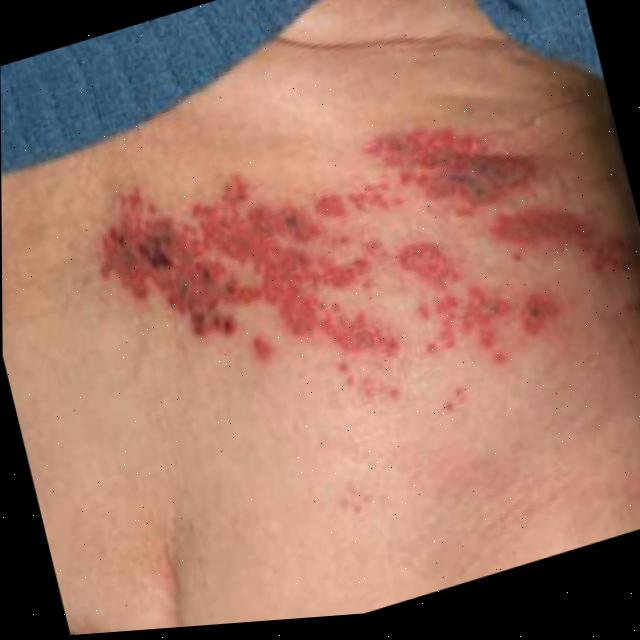Shingles: (96, 47, 640, 473)
